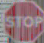Stop: (0, 1, 43, 40)
